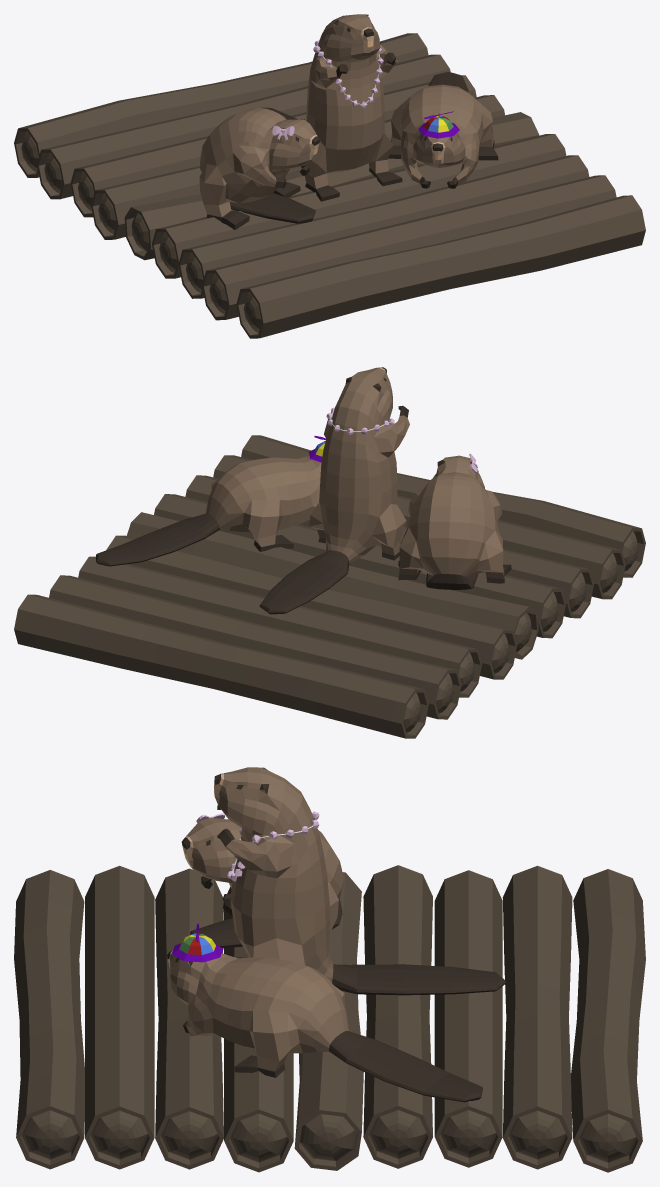
Rendered from BeaverFamily_LogRaft_CenterPivot_FBX.fbx.
3 views of the same model, one above another, from view 1: azimuth 30°, elevation 25°; view 2: azimuth 150°, elevation 25°; view 3: azimuth 270°, elevation 25° (orthographic). The views are drawn at different scales.
Parts seen in each view (by area): view 1: BeaverFamily_LogRaft; view 2: BeaverFamily_LogRaft; view 3: BeaverFamily_LogRaft.
Boxes of the visible parts, bbox=[...] form: BeaverFamily_LogRaft: bbox=[14, 14, 645, 338]; BeaverFamily_LogRaft: bbox=[14, 367, 645, 738]; BeaverFamily_LogRaft: bbox=[14, 767, 645, 1172].
Size of the model in its own units: 149 by 78.58 by 162.
